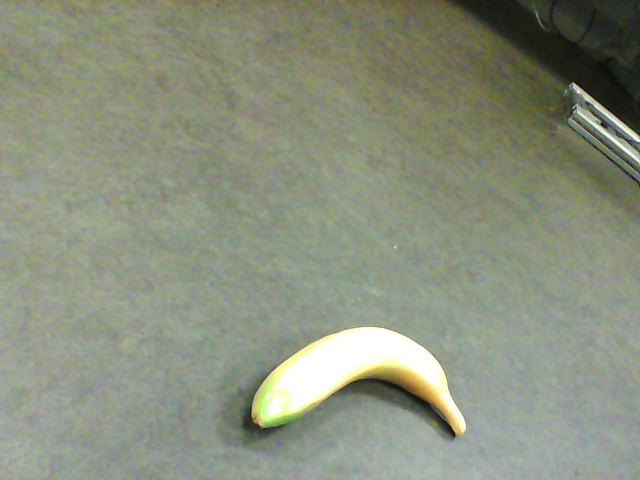banana: (248, 329, 467, 437)
